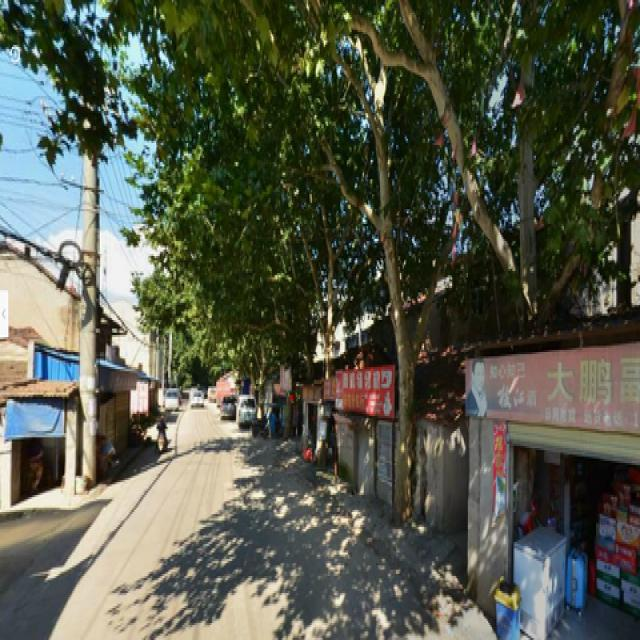meta: (337, 64, 428, 523), (451, 28, 576, 326), (261, 62, 328, 441)
